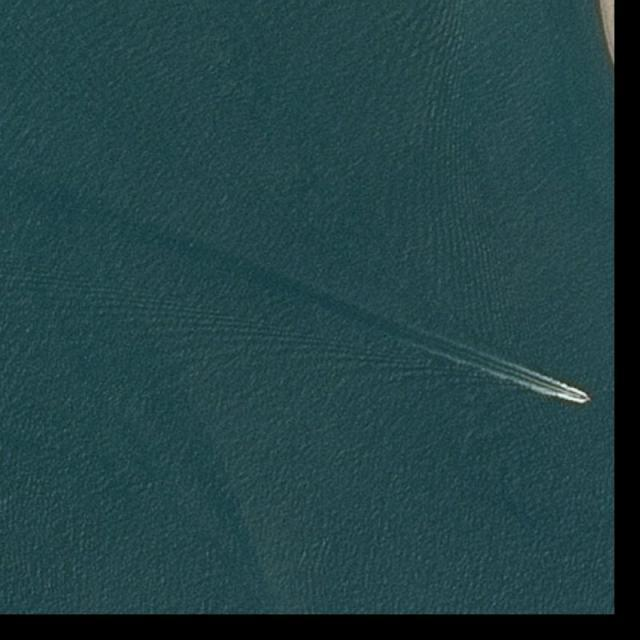ship: (580, 394, 590, 402)
